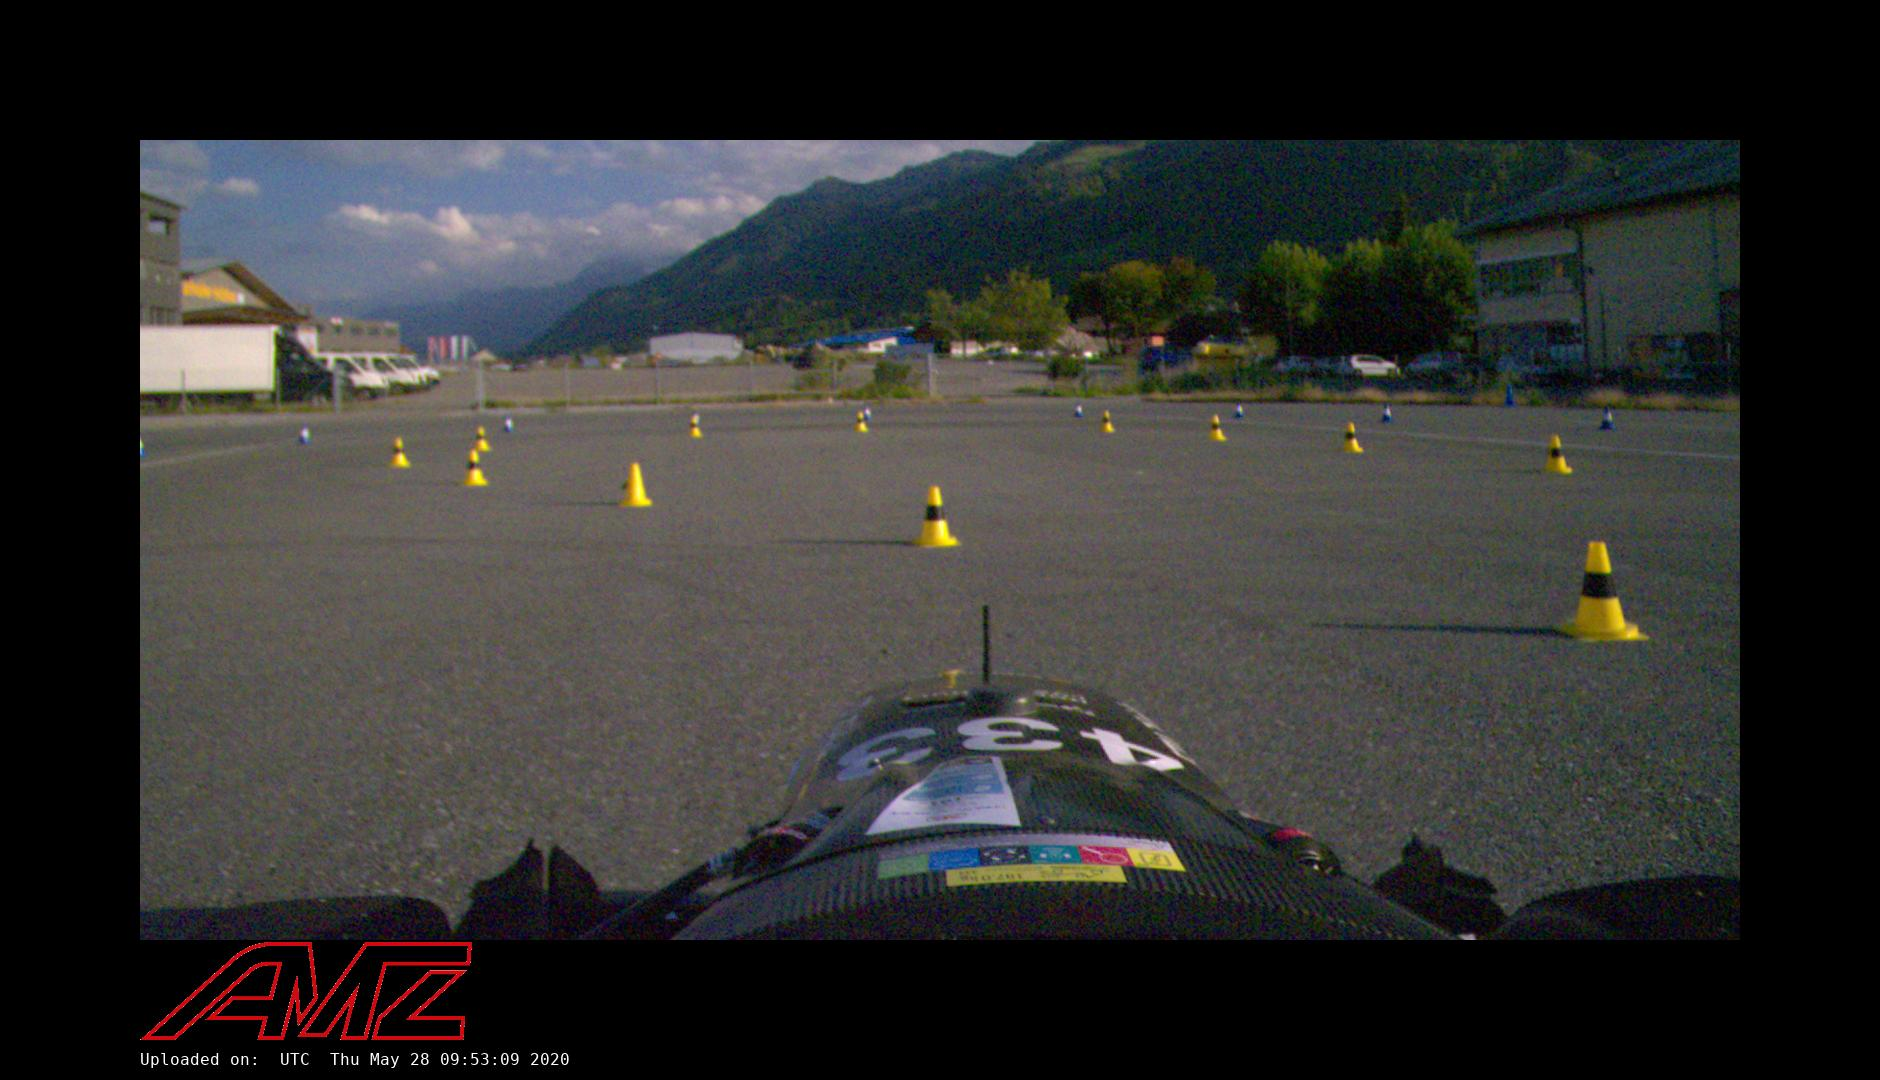blue_cone: (1598, 406, 1618, 431), (298, 424, 314, 445), (1380, 404, 1394, 423), (503, 415, 515, 433), (1073, 402, 1083, 418), (1234, 402, 1244, 418), (694, 411, 702, 425), (864, 407, 872, 420)
yellow_cone: (1549, 542, 1650, 644), (908, 486, 962, 548), (617, 463, 653, 507), (1544, 435, 1572, 474), (462, 450, 488, 486), (1341, 422, 1363, 453), (388, 438, 410, 467), (1206, 415, 1228, 442), (475, 426, 493, 452), (1098, 411, 1116, 433), (688, 417, 704, 438), (854, 412, 868, 432)
